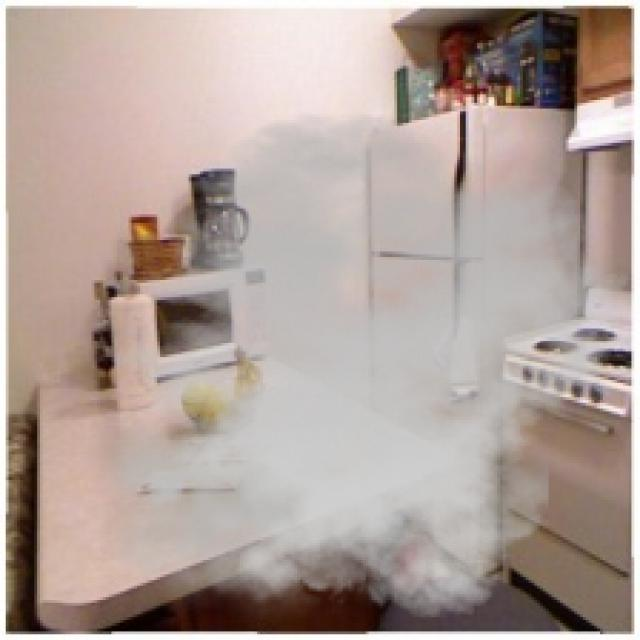smoke: (75, 111, 634, 634)
